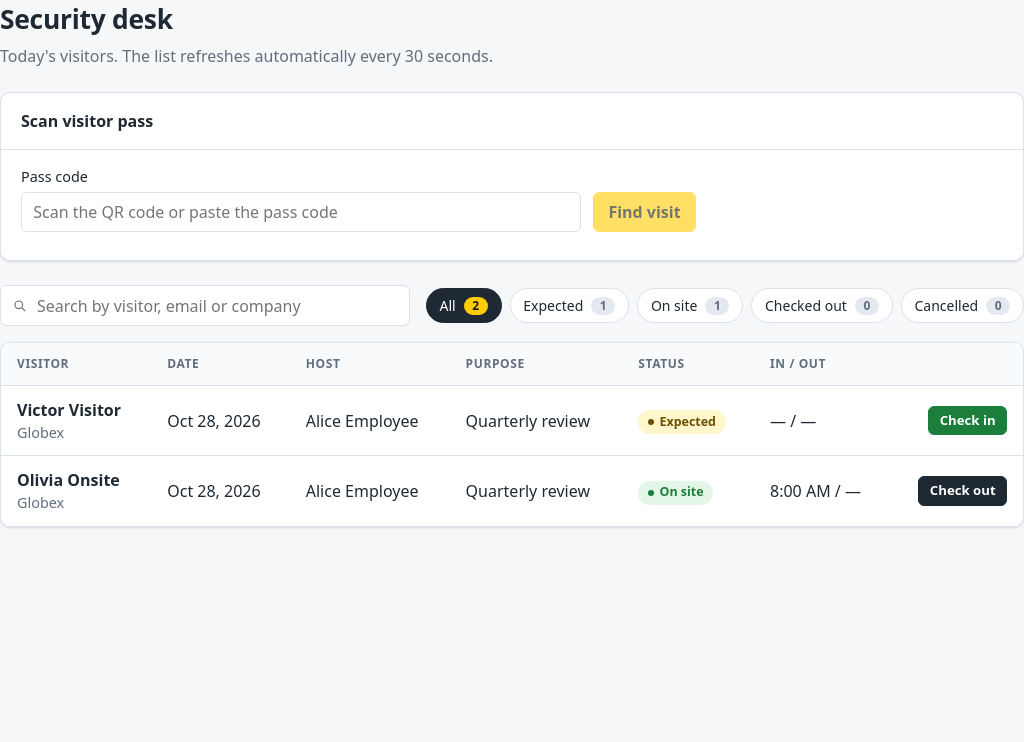
Test: TodayVisitsPage visitor pass scanning › identifies the visit from a scanned pass, then checks in through the normal flow
# Keyboard-wedge scanners type the code and press Enter.
Type "VP1-ABCDEFGHIJKLMNOPQRSTUVWXYZ234567ABCDEFGHIJKLMNOPQRSTUV" into the field labelled "Pass code" at {"x": 301, "y": 212}, box [21, 192, 581, 232]
Then press Enter
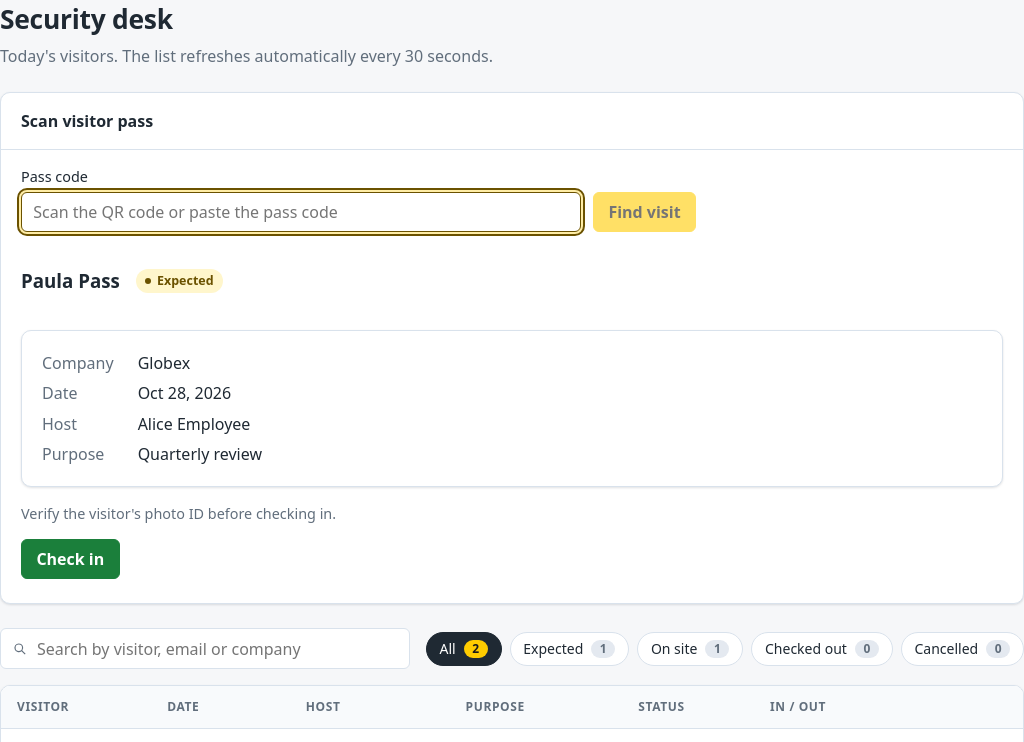
Click the button "Check in" below "Company" at {"x": 70, "y": 559}, box [21, 539, 120, 580]
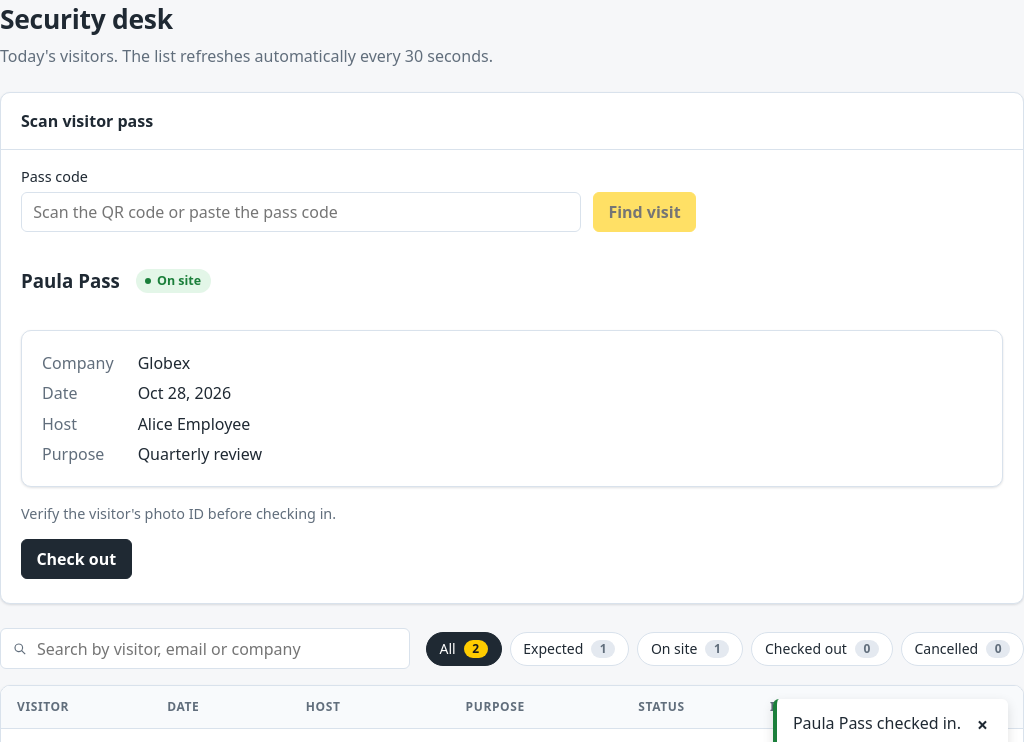
expect the text "Paula Pass checked in." is shown: met, box [793, 711, 961, 735]
